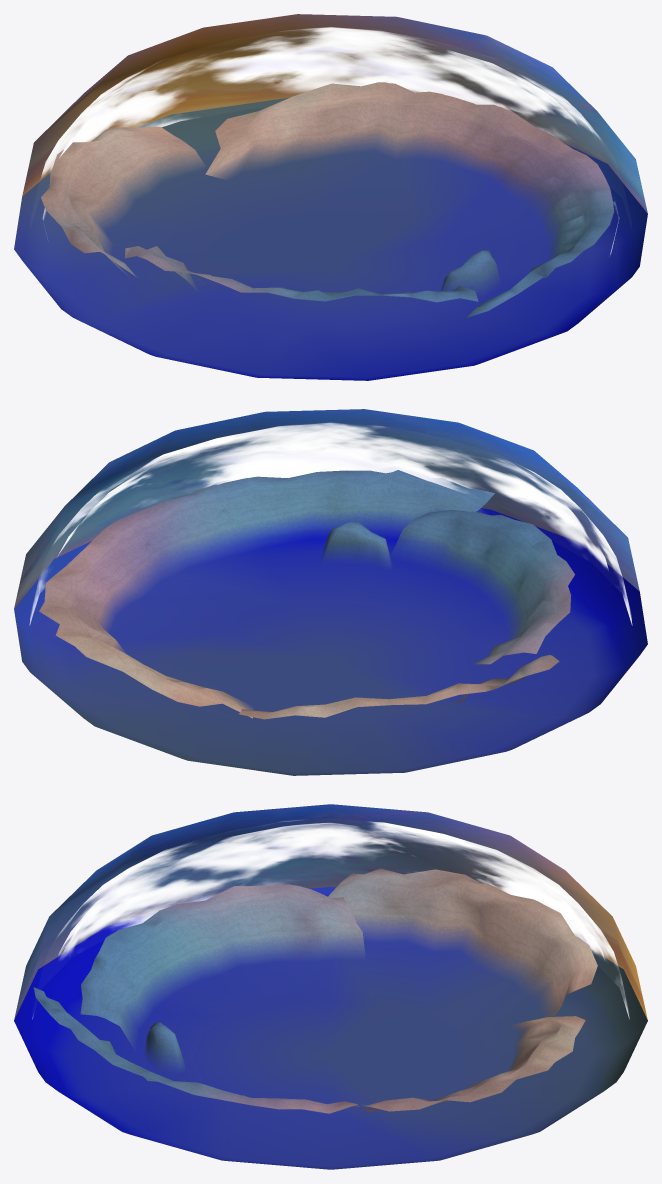
File: Skybox.gltf
3 views of the same model, one above another, from view 1: azimuth 30°, elevation 25°; view 2: azimuth 150°, elevation 25°; view 3: azimuth 270°, elevation 25° (orthographic).
Parts seen in each view (by area): view 1: Sky, Mountains, Clouds1, Clouds2; view 2: Sky, Mountains, Clouds2, Clouds1; view 3: Sky, Mountains, Clouds1, Clouds2.
Boxes of the visible parts, x1,y1,x2,y2 form: Sky: (14, 14, 647, 380); Mountains: (41, 82, 614, 319); Clouds1: (42, 50, 619, 254); Clouds2: (41, 27, 601, 177); Sky: (14, 409, 647, 775); Mountains: (39, 470, 574, 719); Clouds2: (29, 422, 632, 625); Clouds1: (58, 447, 608, 569); Sky: (14, 804, 647, 1169); Mountains: (33, 868, 597, 1113); Clouds1: (58, 823, 604, 959); Clouds2: (32, 820, 629, 1018).
Bounding box in the file's own units: 5000 × 1550 × 5000.
Materials: 5 (5 with a texture image).
